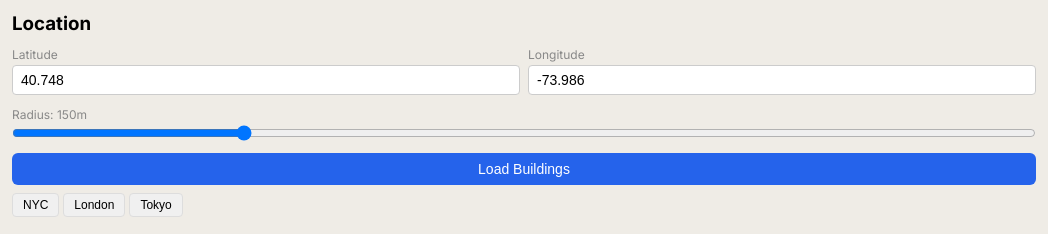
LocationInput › radius slider changes value
The width and height of the screenshot is (1048, 234).
Set the slider to "300": (580, 133) x1=12 y1=125 x2=1036 y2=141
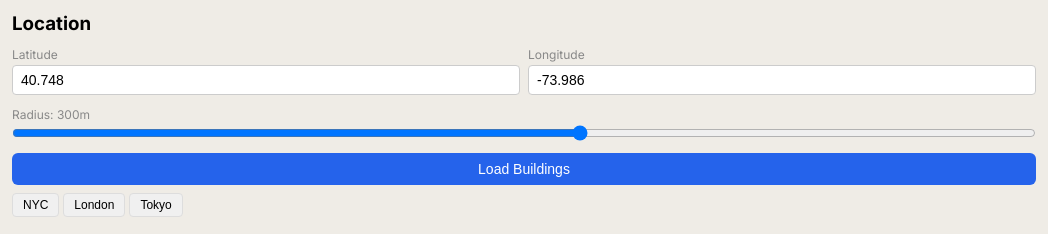
Check: the text "Radius: 300m" is shown, box x1=12 y1=107 x2=90 y2=122
